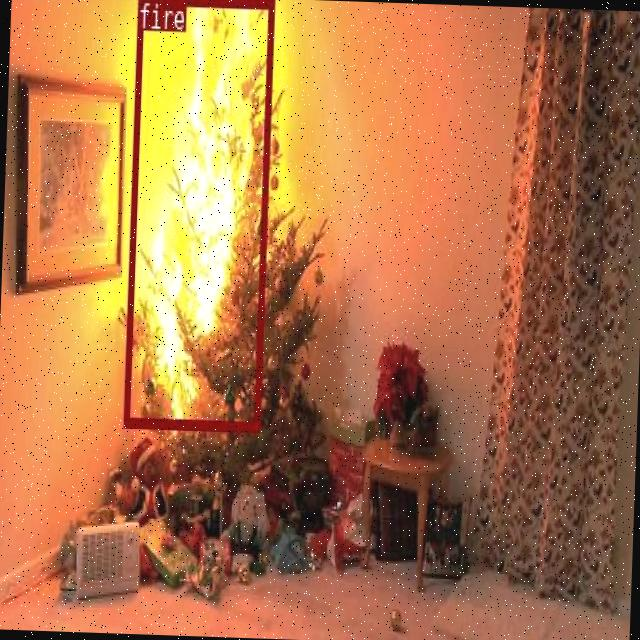fire: (121, 0, 272, 427)
